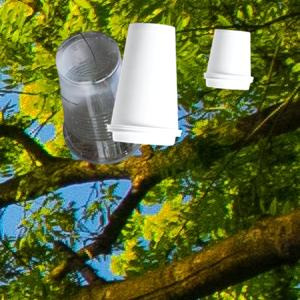cup: (106, 20, 181, 144), (205, 26, 254, 91)
